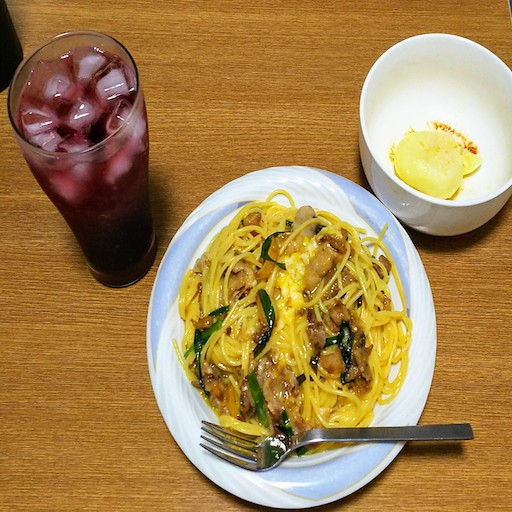drink: (7, 28, 159, 289)
other: (356, 32, 512, 238)
pasta: (178, 190, 412, 456)
